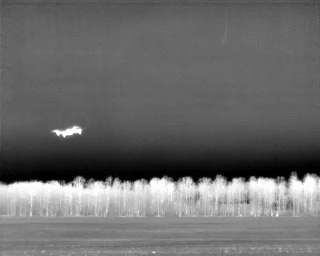DRONE: (48, 120, 87, 143)
